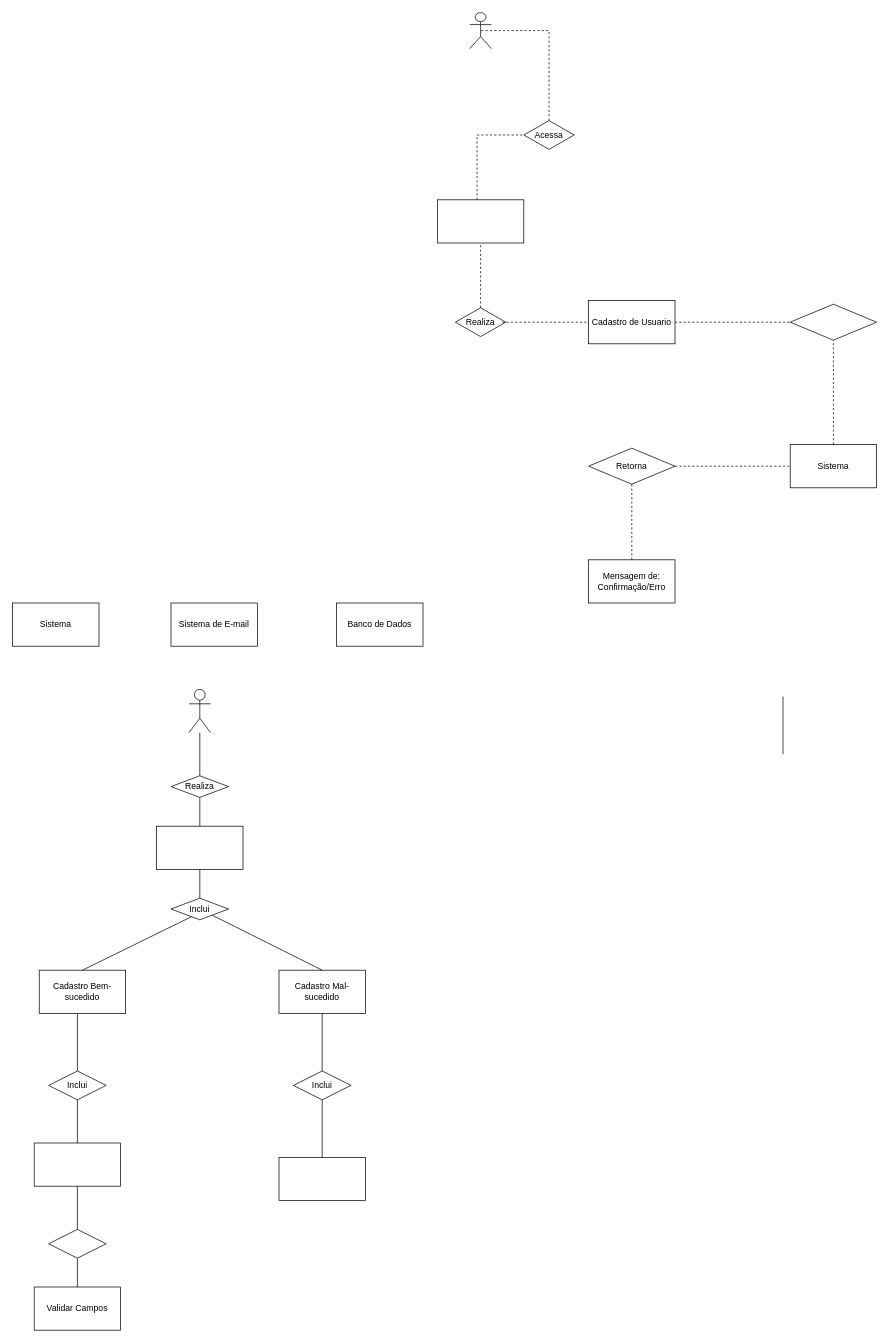
This 889x1343 diagram has some shape labels left out. Here are the shapes that lost their labels. From the top down, the centre of each, then its label:
At [480,30]: "Actor".
At [480,221]: "WebSite".
At [833,321]: "Interage com".
At [199,711]: "Visitante".
At [199,847]: "Cadastrar Usuário".
At [77,1164]: "Exibir Mensagem de Confirmação".
At [321,1179]: "Exibir Mensagem de Erro".
At [77,1243]: "Depende".
